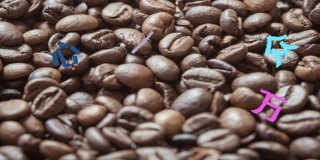一: (132, 30, 153, 54)
万: (250, 88, 288, 123)
众: (261, 34, 301, 69)
心: (49, 39, 79, 68)
